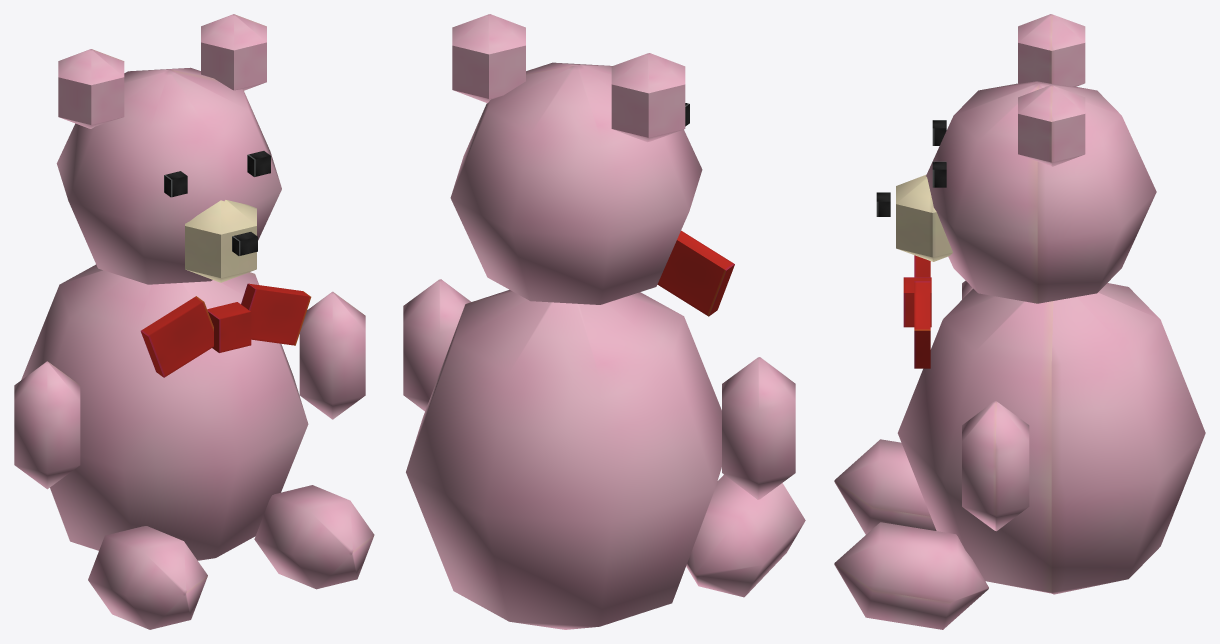
File: prize_bear_giant.obj
The picture shows the model from 3 angles, left to right: view 1: azimuth 30°, elevation 25°; view 2: azimuth 150°, elevation 25°; view 3: azimuth 270°, elevation 25°; orthographic projection. The views are drawn at different scales.
Parts seen in each view (by area): view 1: prize_bear_giant; view 2: prize_bear_giant; view 3: prize_bear_giant.
Part boxes in pixels (<box>): prize_bear_giant: <box>14,14,374,629</box>; prize_bear_giant: <box>403,14,805,629</box>; prize_bear_giant: <box>834,14,1205,629</box>.
Bounding box in the file's own units: 0.7681 × 1.11 × 0.6898.
1 material, 1 textured.
